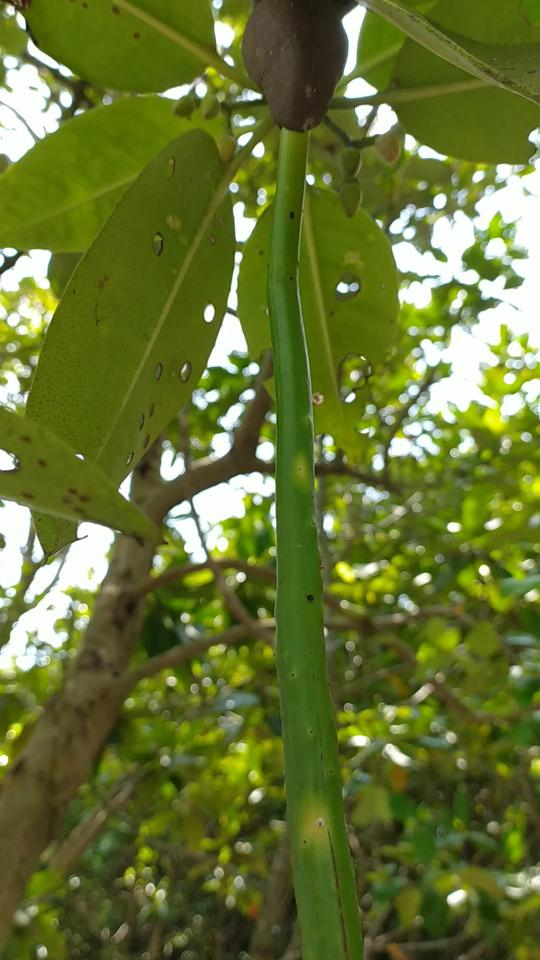mentah: (216, 1, 386, 959)
